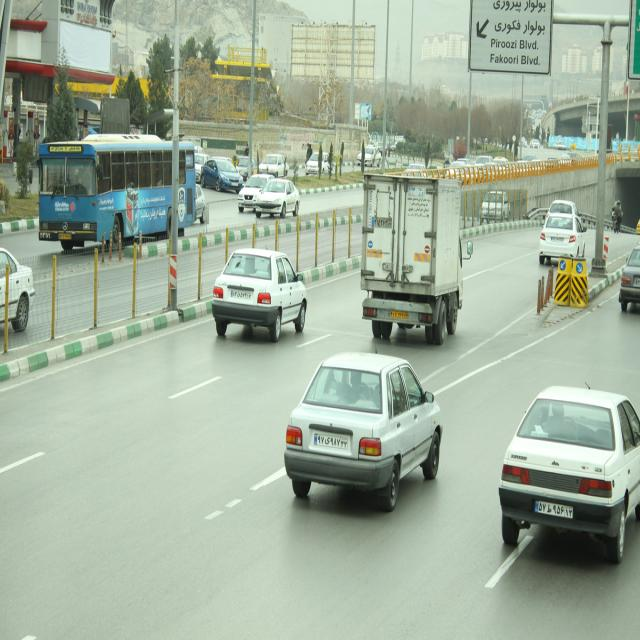bus: (37, 127, 199, 258)
car: (281, 349, 441, 508), (498, 386, 640, 554), (211, 249, 307, 337), (538, 207, 586, 261), (256, 177, 300, 212), (202, 150, 236, 194), (238, 179, 269, 217), (482, 194, 508, 221)
truck: (361, 164, 467, 332)
